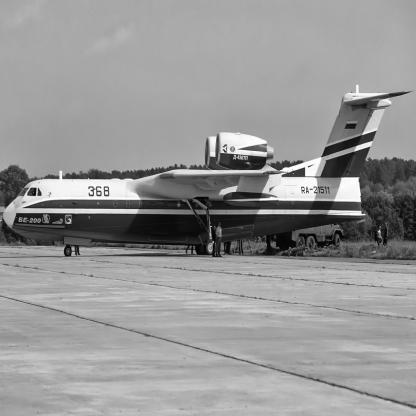Be200: (4, 85, 416, 258)
